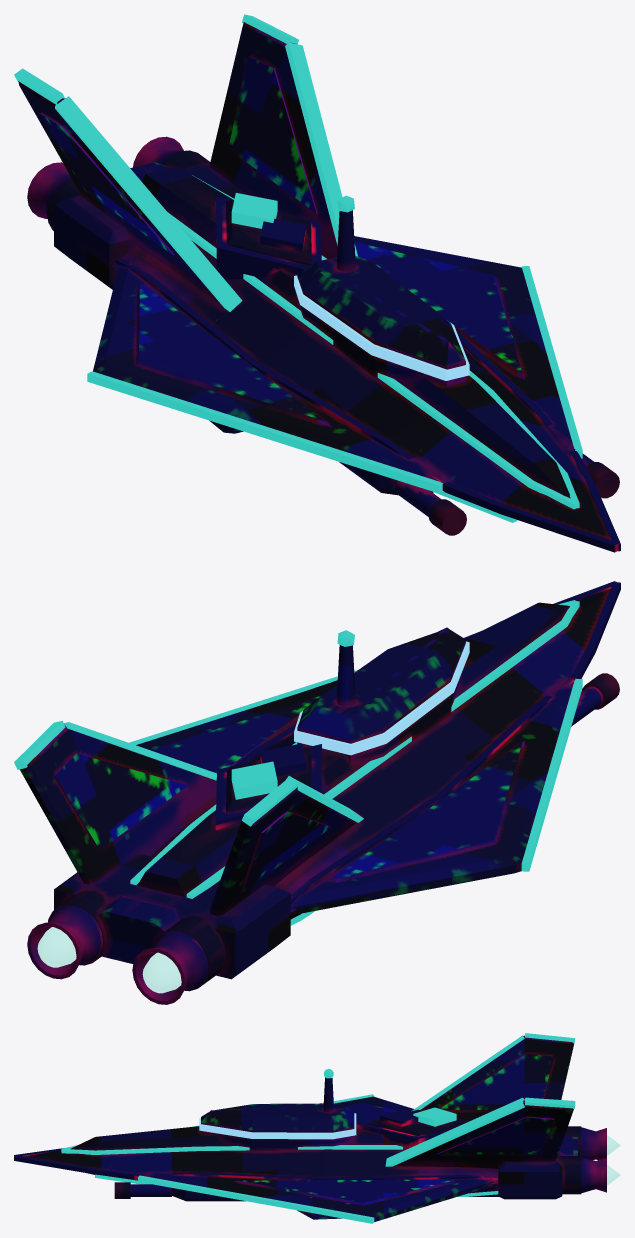
The model's file is mirage_wreck.glb.
The picture shows the model from 3 angles, top to bottom: view 1: azimuth 30°, elevation 25°; view 2: azimuth 150°, elevation 25°; view 3: azimuth 270°, elevation 25°; orthographic projection. The views are drawn at different scales.
Visible parts, largest first — view 1: mirage_wreck_11, mirage_wreck_01, mirage_wreck_02, mirage_wreck_06, mirage_wreck_05, mirage_wreck_13, mirage_wreck_09, mirage_wreck_12, mirage_wreck_00, mirage_wreck_10, mirage_wreck_08, mirage_wreck_03 (+2 smaller); view 2: mirage_wreck_00, mirage_wreck_01, mirage_wreck_05, mirage_wreck_11, mirage_wreck_09, mirage_wreck_12, mirage_wreck_02, mirage_wreck_08, mirage_wreck_03, mirage_wreck_13, mirage_wreck_07, mirage_wreck_10 (+2 smaller); view 3: mirage_wreck_05, mirage_wreck_06, mirage_wreck_00, mirage_wreck_07, mirage_wreck_03, mirage_wreck_10, mirage_wreck_09, mirage_wreck_13, mirage_wreck_01, mirage_wreck_04, mirage_wreck_02, mirage_wreck_08.
Boxes of the visible parts, x1,y1,x2,y2 form: mirage_wreck_11: (206, 314, 434, 492); mirage_wreck_01: (68, 162, 218, 328); mirage_wreck_02: (367, 406, 573, 535); mirage_wreck_06: (432, 318, 619, 498); mirage_wreck_05: (282, 195, 551, 366); mirage_wreck_13: (195, 166, 357, 318); mirage_wreck_09: (230, 14, 334, 175); mirage_wreck_12: (196, 301, 344, 433); mirage_wreck_00: (27, 80, 254, 264); mirage_wreck_10: (387, 246, 552, 347); mirage_wreck_08: (87, 323, 198, 416); mirage_wreck_03: (14, 68, 124, 237); mirage_wreck_00: (27, 810, 250, 1004); mirage_wreck_01: (202, 787, 426, 968); mirage_wreck_05: (221, 630, 428, 774); mirage_wreck_11: (411, 636, 571, 807); mirage_wreck_09: (14, 721, 161, 836); mirage_wreck_12: (358, 727, 547, 837); mirage_wreck_02: (493, 605, 619, 726); mirage_wreck_08: (396, 805, 546, 890); mirage_wreck_03: (212, 776, 321, 949); mirage_wreck_13: (161, 743, 371, 828); mirage_wreck_07: (129, 755, 221, 858); mirage_wreck_10: (129, 706, 243, 773); mirage_wreck_05: (241, 1068, 384, 1210); mirage_wreck_06: (107, 1109, 268, 1205); mirage_wreck_00: (509, 1126, 620, 1199); mirage_wreck_07: (386, 1131, 519, 1205); mirage_wreck_03: (479, 1033, 574, 1102); mirage_wreck_10: (268, 1176, 429, 1223); mirage_wreck_09: (450, 1097, 575, 1155); mirage_wreck_13: (359, 1103, 468, 1176); mirage_wreck_01: (420, 1065, 509, 1121); mirage_wreck_04: (14, 1137, 110, 1179); mirage_wreck_02: (95, 1128, 175, 1176); mirage_wreck_08: (333, 1094, 413, 1120).
Size of the model in its own units: 4.62 by 2.24 by 9.49.
Materials: 13 (9 with a texture image).
